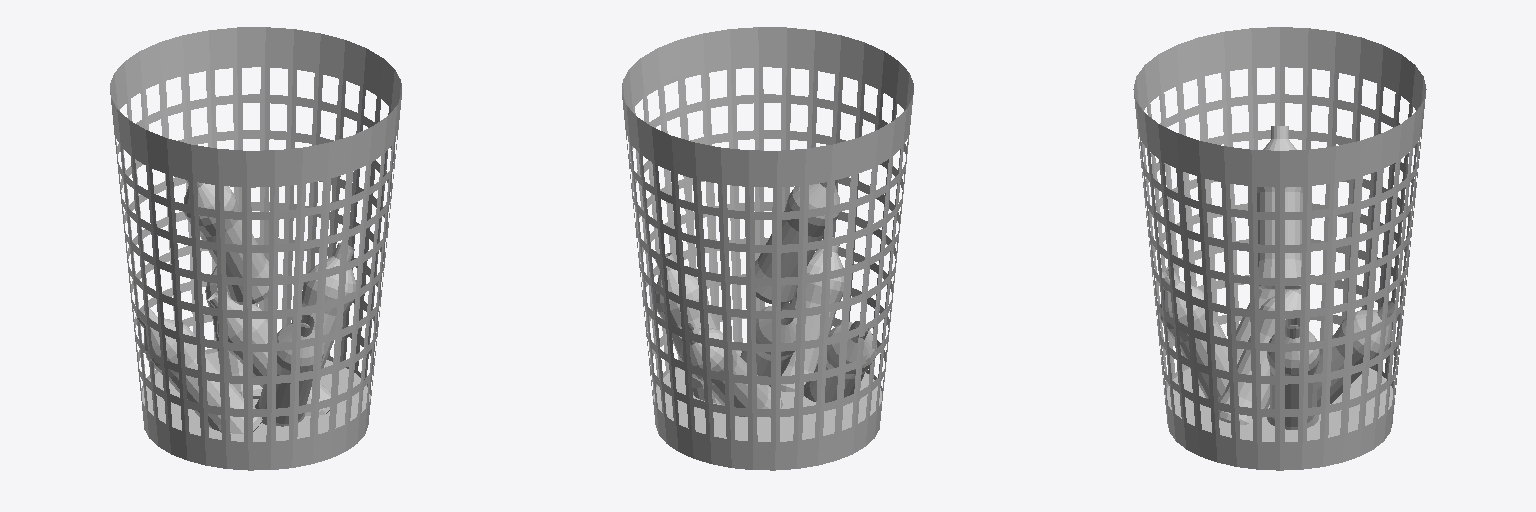
The model's file is DustbinWithCan_000028.obj.
3 views of the same model, side by side, from view 1: azimuth 30°, elevation 25°; view 2: azimuth 150°, elevation 25°; view 3: azimuth 270°, elevation 25° (orthographic).
Parts seen in each view (by area): view 1: Cylinder, Plane.005, Plane.006, Plane.001, Plane.003, Plane.004, Plane.002; view 2: Cylinder, Plane.006, Plane.001, Plane.002, Plane.005, Plane.003, Plane.004; view 3: Cylinder, Plane.006, Plane.001, Plane.004, Plane.003, Plane.002, Plane.005.
Boxes of the visible parts, box(x1,y1,x2,y2) form: Cylinder: box(110, 27, 401, 470); Plane.005: box(135, 307, 262, 433); Plane.006: box(184, 180, 268, 304); Plane.001: box(255, 315, 323, 426); Plane.003: box(291, 243, 355, 368); Plane.004: box(208, 291, 330, 415); Plane.002: box(205, 266, 262, 398); Cylinder: box(622, 27, 913, 470); Plane.006: box(755, 180, 839, 303); Plane.001: box(770, 237, 843, 391); Plane.002: box(679, 323, 782, 416); Plane.005: box(804, 321, 876, 402); Plane.003: box(655, 253, 719, 403); Plane.004: box(740, 303, 796, 385); Cylinder: box(1133, 27, 1426, 470); Plane.006: box(1257, 126, 1302, 289); Plane.001: box(1160, 269, 1238, 399); Plane.004: box(1218, 289, 1300, 424); Plane.003: box(1267, 318, 1319, 429); Plane.002: box(1317, 301, 1394, 406); Plane.005: box(1236, 289, 1285, 359).
Bounding box in the file's own units: 2.6 × 3.27 × 2.6.